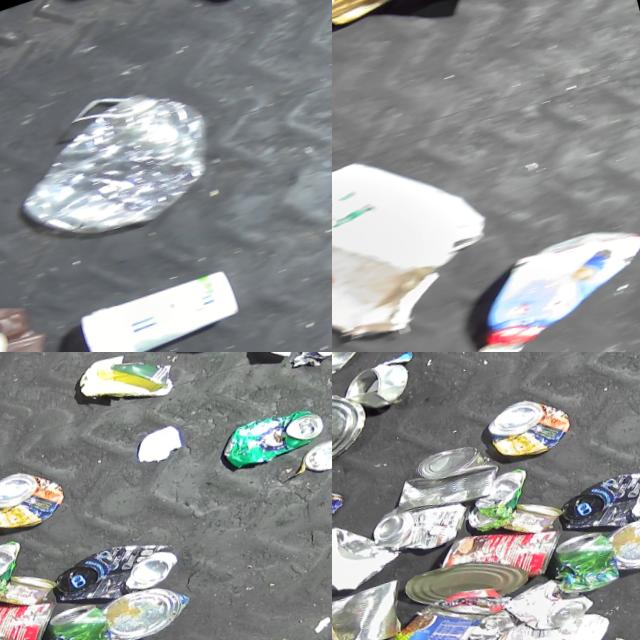can: (433, 511, 568, 612), (50, 534, 182, 624), (384, 438, 503, 530), (401, 544, 529, 629), (216, 408, 328, 483), (368, 489, 472, 569), (556, 461, 640, 552), (482, 392, 574, 473), (358, 589, 494, 640), (500, 571, 596, 640), (546, 529, 620, 605), (100, 581, 194, 640), (0, 463, 67, 545), (458, 470, 536, 540), (332, 579, 412, 640), (338, 359, 410, 421), (332, 380, 375, 483), (497, 495, 564, 549), (0, 583, 61, 640), (0, 567, 58, 621), (39, 601, 114, 640), (606, 509, 640, 584), (0, 541, 30, 612), (332, 479, 353, 553), (299, 444, 332, 487), (332, 352, 365, 395)
milk_jug: (332, 131, 493, 322)
plastic_bottle: (2, 70, 225, 267)
